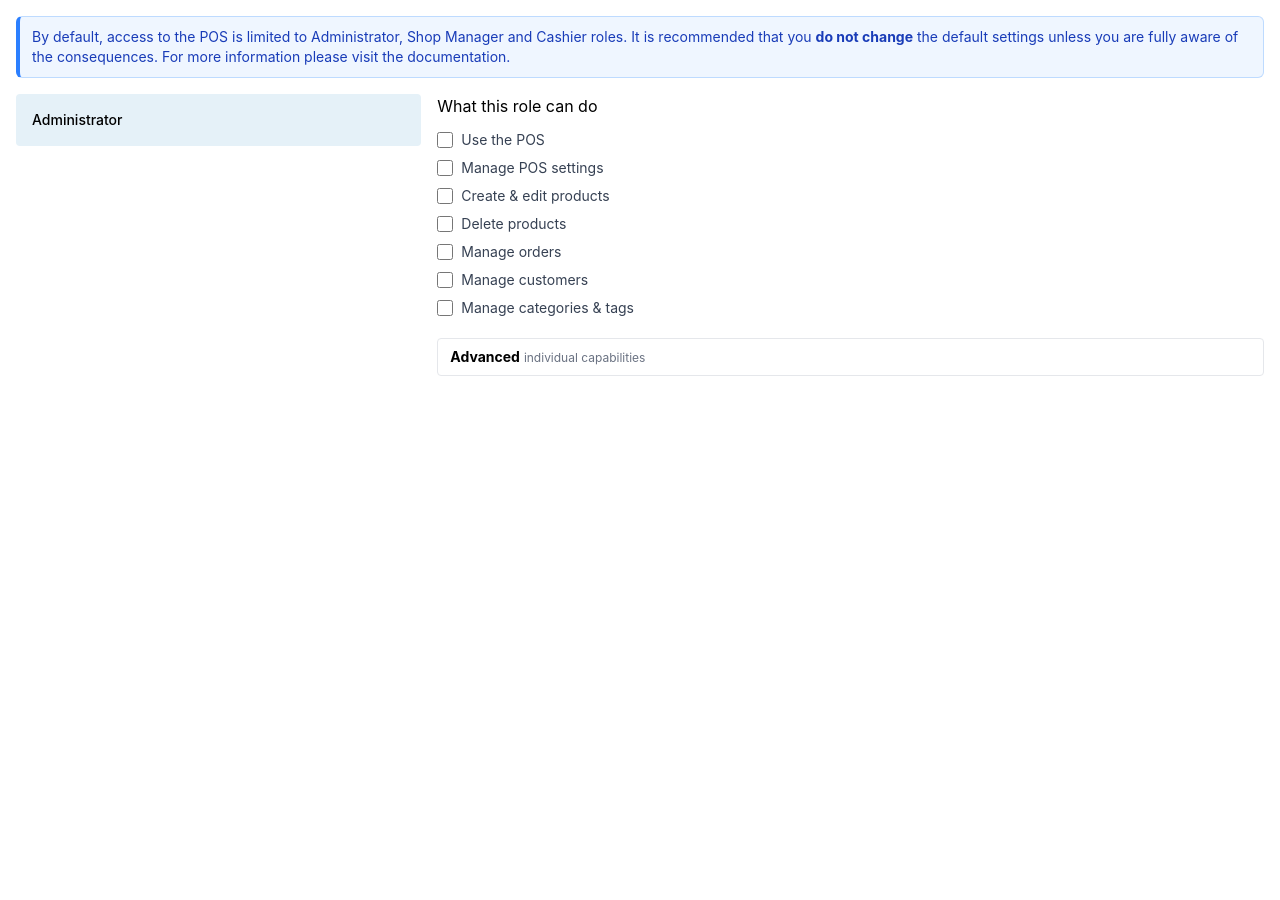
Test: Access screen advanced disclosure › lists capabilities that belong to no task group
Click the heading with test id "access-advanced-summary": (548, 356) x1=450 y1=348 x2=645 y2=365
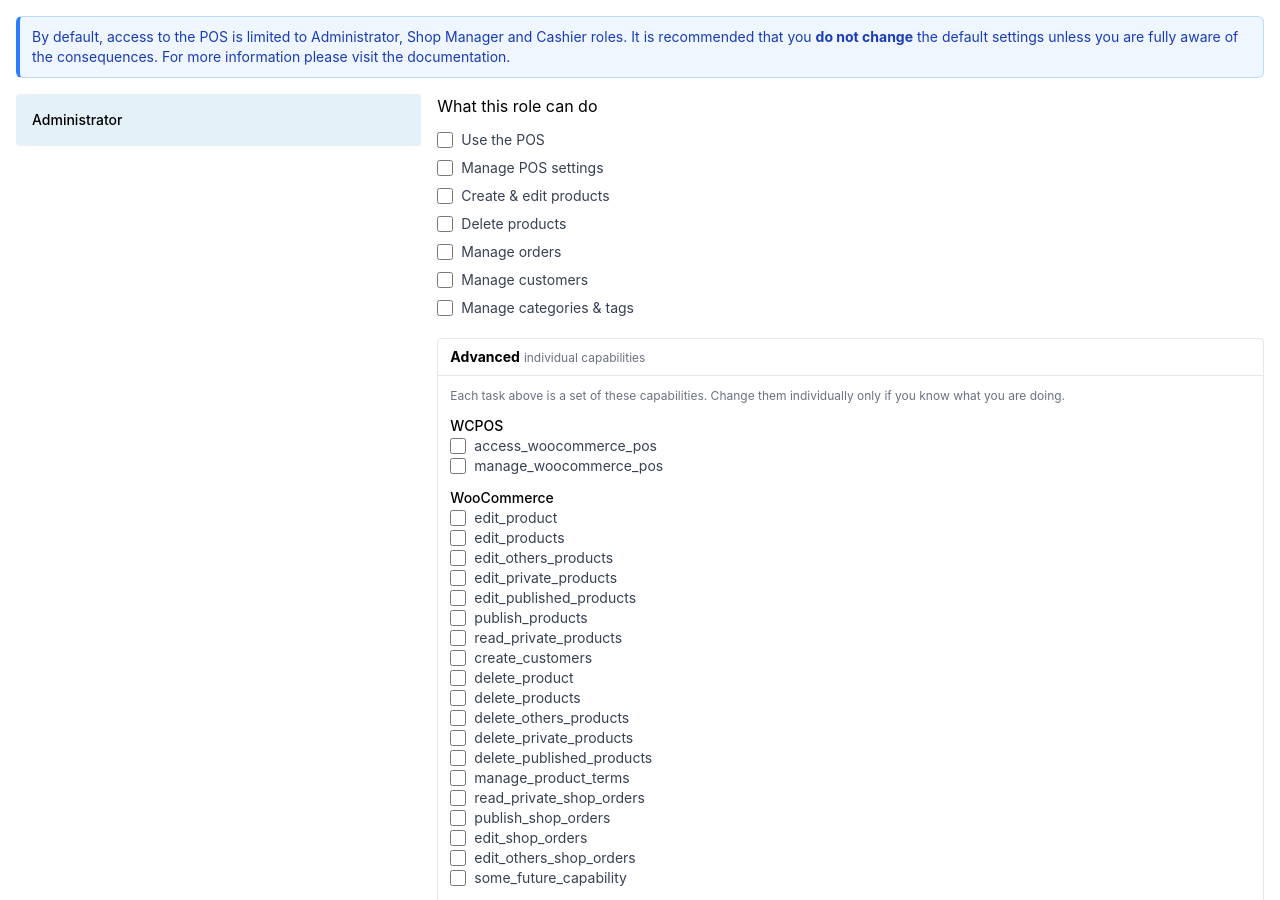
Result: the checkbox labelled "some_future_capability" is shown at x1=450 y1=870 x2=466 y2=886
